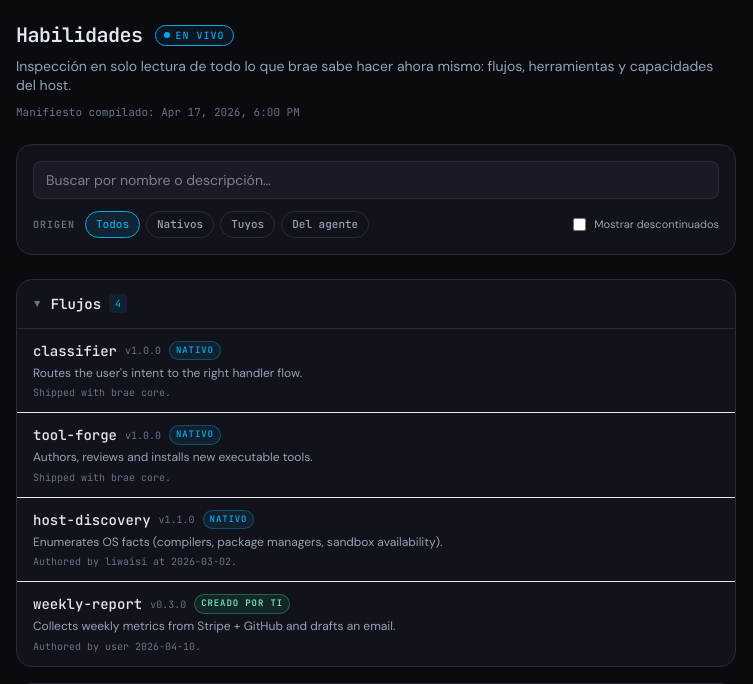
SkillsPanel › hides deprecated entries by default and reveals them when the toggle is flipped
# Toggle on → the row shows up.
Click the checkbox with test id "skills-show-deprecated" at x=580, y=224, box x1=573 y1=218 x2=586 y2=231
(page scrolled)
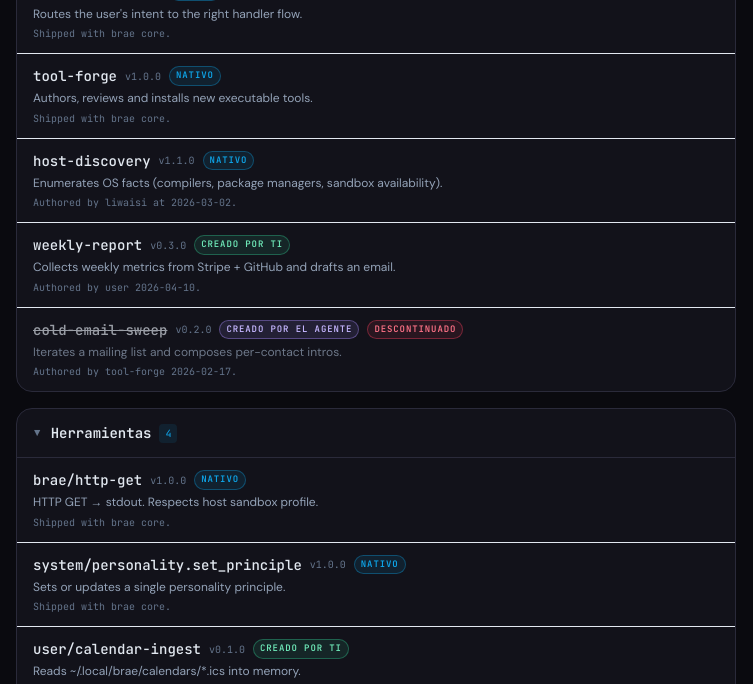
Expected: the element with test id "skill-row-flow/agent/cold-email-sweep" is shown, x1=33 y1=320 x2=463 y2=378
